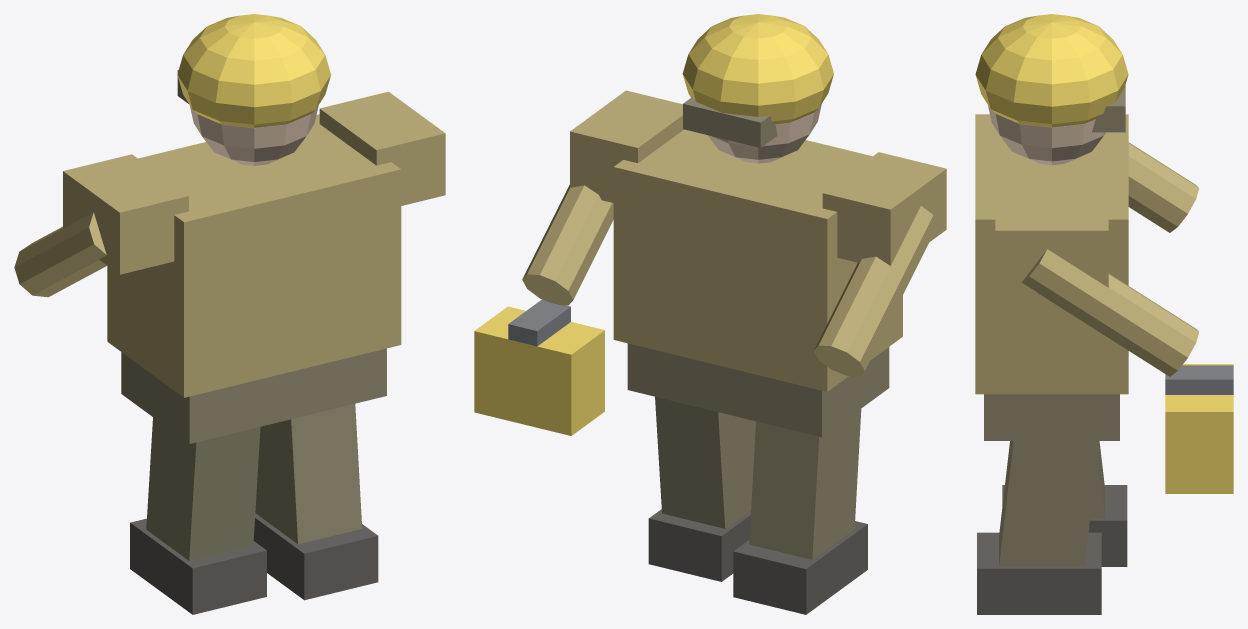
Rendered from dm_engineer.glb.
3 renders of one model, left to right at view 1: azimuth 30°, elevation 25°; view 2: azimuth 150°, elevation 25°; view 3: azimuth 270°, elevation 25°, orthographic.
Parts seen in each view (by area): view 1: soldier; view 2: soldier; view 3: soldier.
Boxes of the visible parts, left/top/right/bottom form: soldier: left=14, top=14, right=445, bottom=614; soldier: left=474, top=14, right=946, bottom=614; soldier: left=975, top=14, right=1233, bottom=614.
Bounding box in the file's own units: 0.7476 × 1.07 × 0.455.
